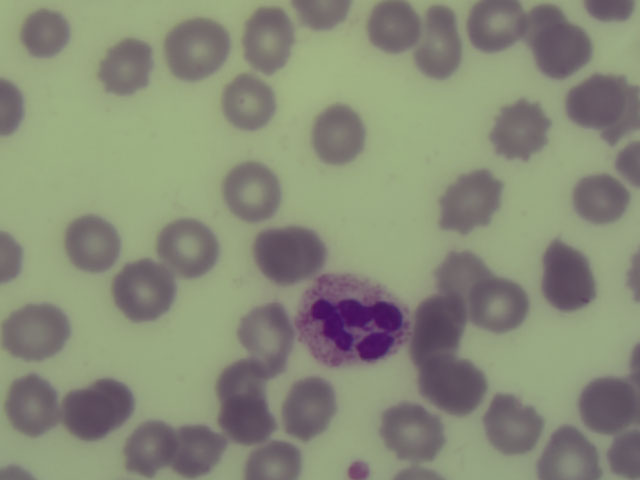Platelets: (342, 457, 377, 480)
RBC: (409, 3, 465, 84), (409, 295, 459, 368), (241, 5, 296, 69), (235, 300, 286, 363), (442, 173, 498, 225), (385, 404, 441, 456), (487, 396, 543, 448), (580, 377, 636, 429), (426, 359, 482, 411), (439, 246, 495, 298), (471, 279, 527, 331), (541, 250, 597, 302), (280, 381, 336, 433), (219, 392, 275, 444), (213, 357, 269, 409), (169, 422, 225, 474), (120, 419, 176, 471), (69, 380, 125, 432), (7, 305, 63, 357), (113, 264, 169, 316), (261, 229, 317, 281), (160, 220, 216, 272), (65, 217, 121, 269), (222, 166, 278, 218), (309, 108, 365, 160), (573, 171, 629, 223), (493, 101, 549, 153), (570, 73, 626, 125), (532, 21, 588, 73), (223, 79, 279, 131), (164, 22, 220, 74), (98, 40, 154, 92), (16, 5, 72, 57), (540, 428, 596, 479), (467, 1, 523, 52), (363, 1, 419, 52), (9, 376, 57, 434), (247, 436, 304, 479), (1, 73, 30, 142), (291, 1, 354, 32), (603, 432, 640, 479), (1, 232, 29, 283)
WBC: (295, 283, 407, 366)
